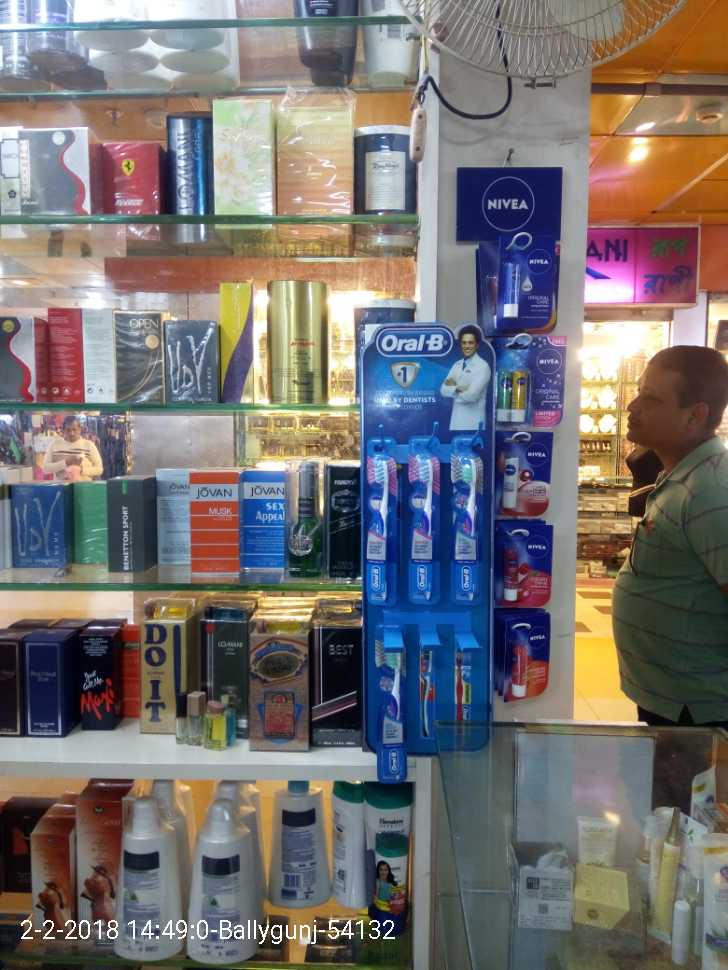oralb: (447, 460, 488, 597), (400, 455, 439, 596), (372, 643, 406, 778), (364, 444, 390, 605)
